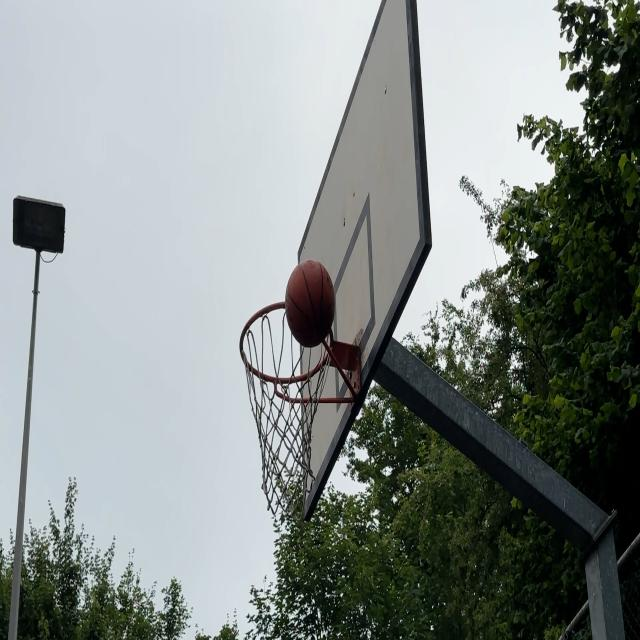rebound_hit: (283, 259, 335, 349)
